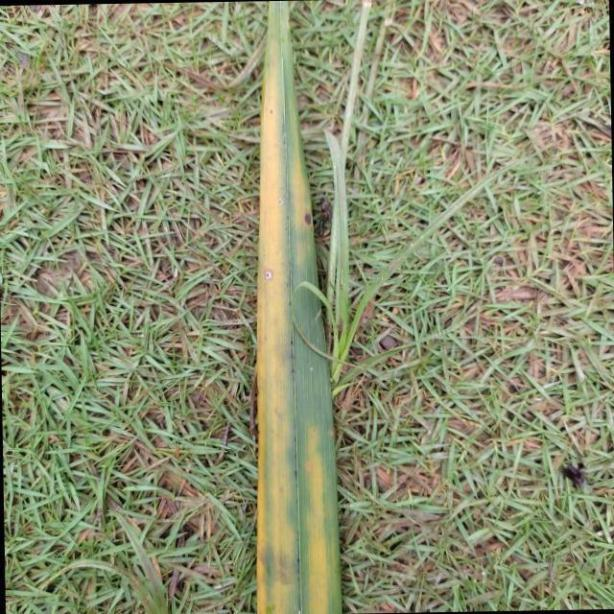Megnesium: (253, 0, 345, 614)
